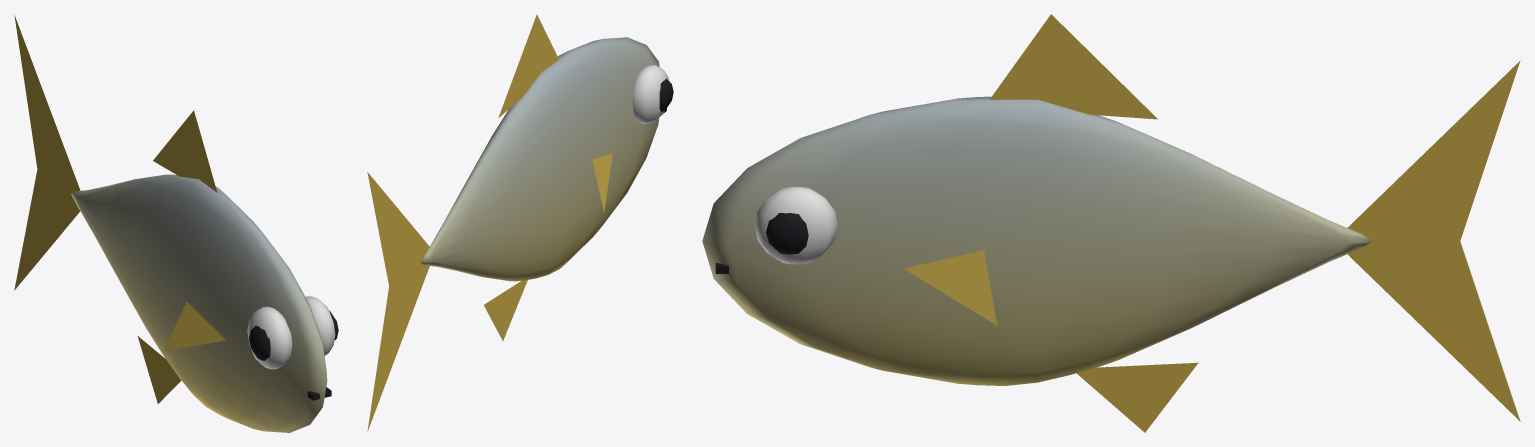
File: pompano.glb
The picture shows the model from 3 angles, left to right: view 1: azimuth 30°, elevation 25°; view 2: azimuth 150°, elevation 25°; view 3: azimuth 270°, elevation 25°; orthographic projection. The views are drawn at different scales.
Parts seen in each view (by area): view 1: pompano; view 2: pompano; view 3: pompano.
Boxes of the visible parts, x1=… form: pompano: x1=14, y1=15, x2=338, y2=432; pompano: x1=367, y1=14, x2=673, y2=431; pompano: x1=702, y1=14, x2=1520, y2=432.
Bounding box in the file's own units: 0.228 × 0.6892 × 1.22.
